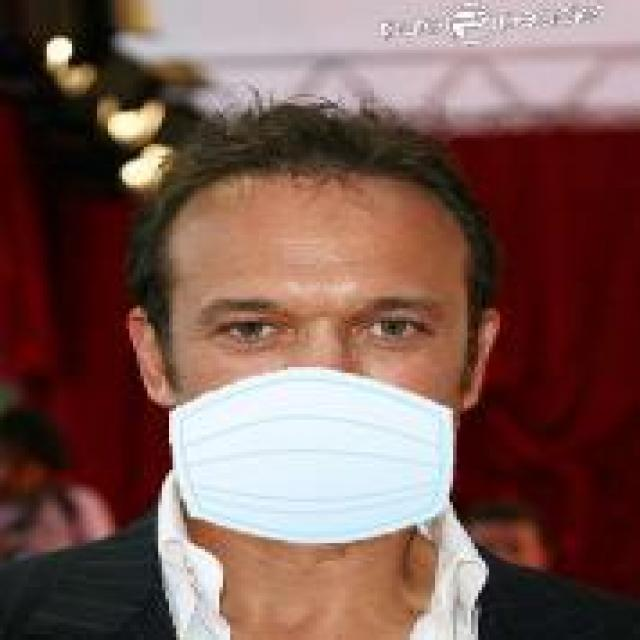mask: (122, 85, 543, 552)
